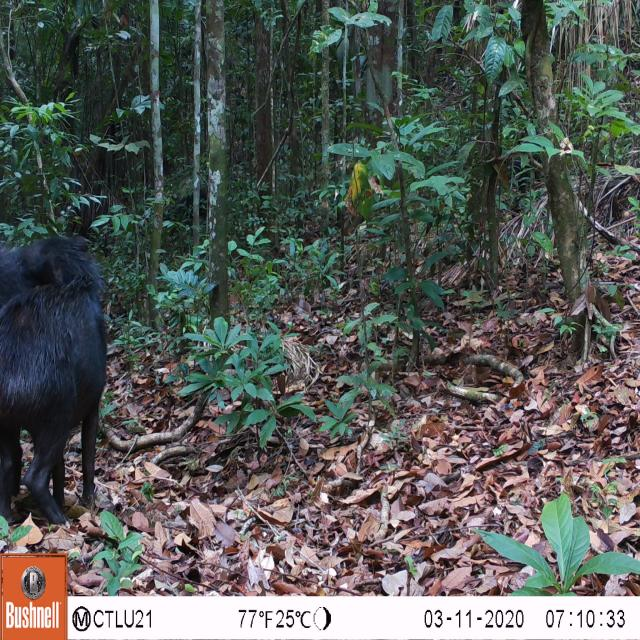White-lipped Peccary: (0, 231, 116, 534)
